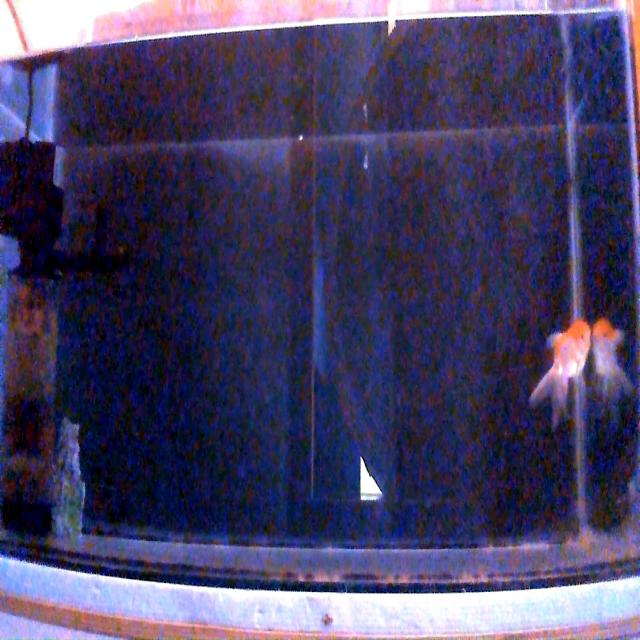fish: (529, 316, 591, 430), (589, 318, 635, 400)
